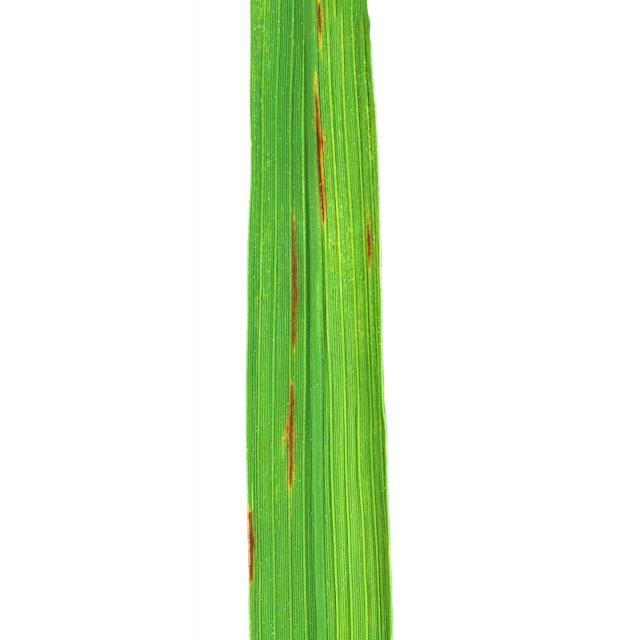Narrow brown: (230, 0, 430, 640)
